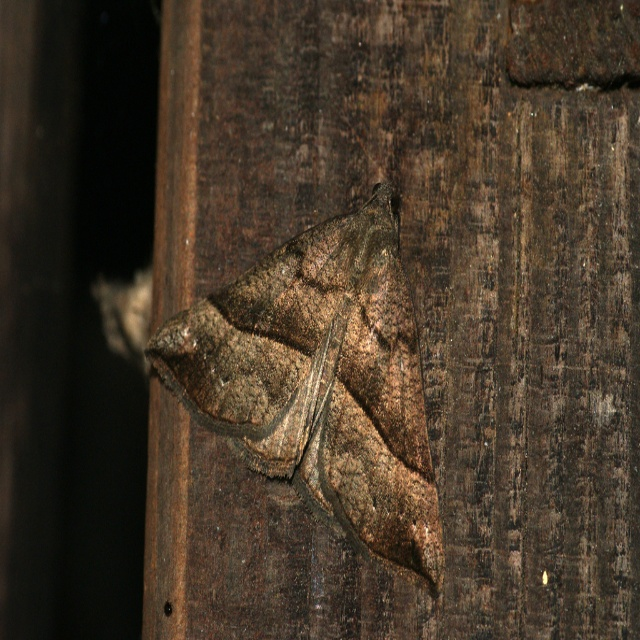Moths and butterflies: (142, 179, 446, 606)
